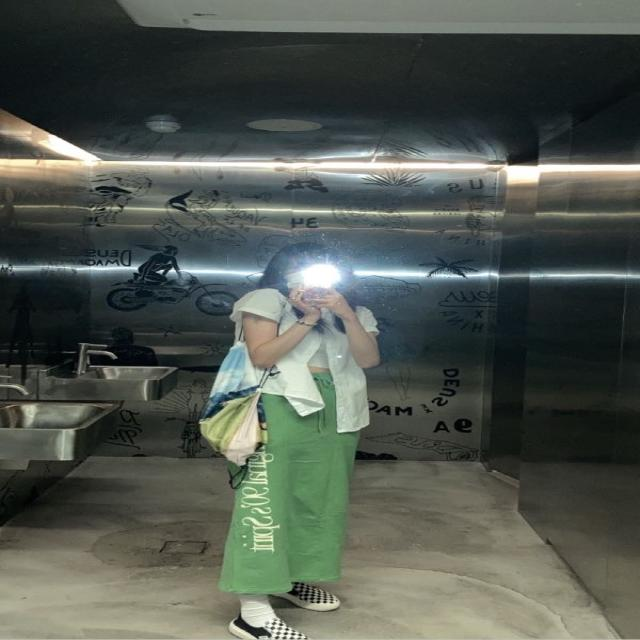shirt: (230, 285, 380, 434)
skirt: (221, 365, 359, 596)
